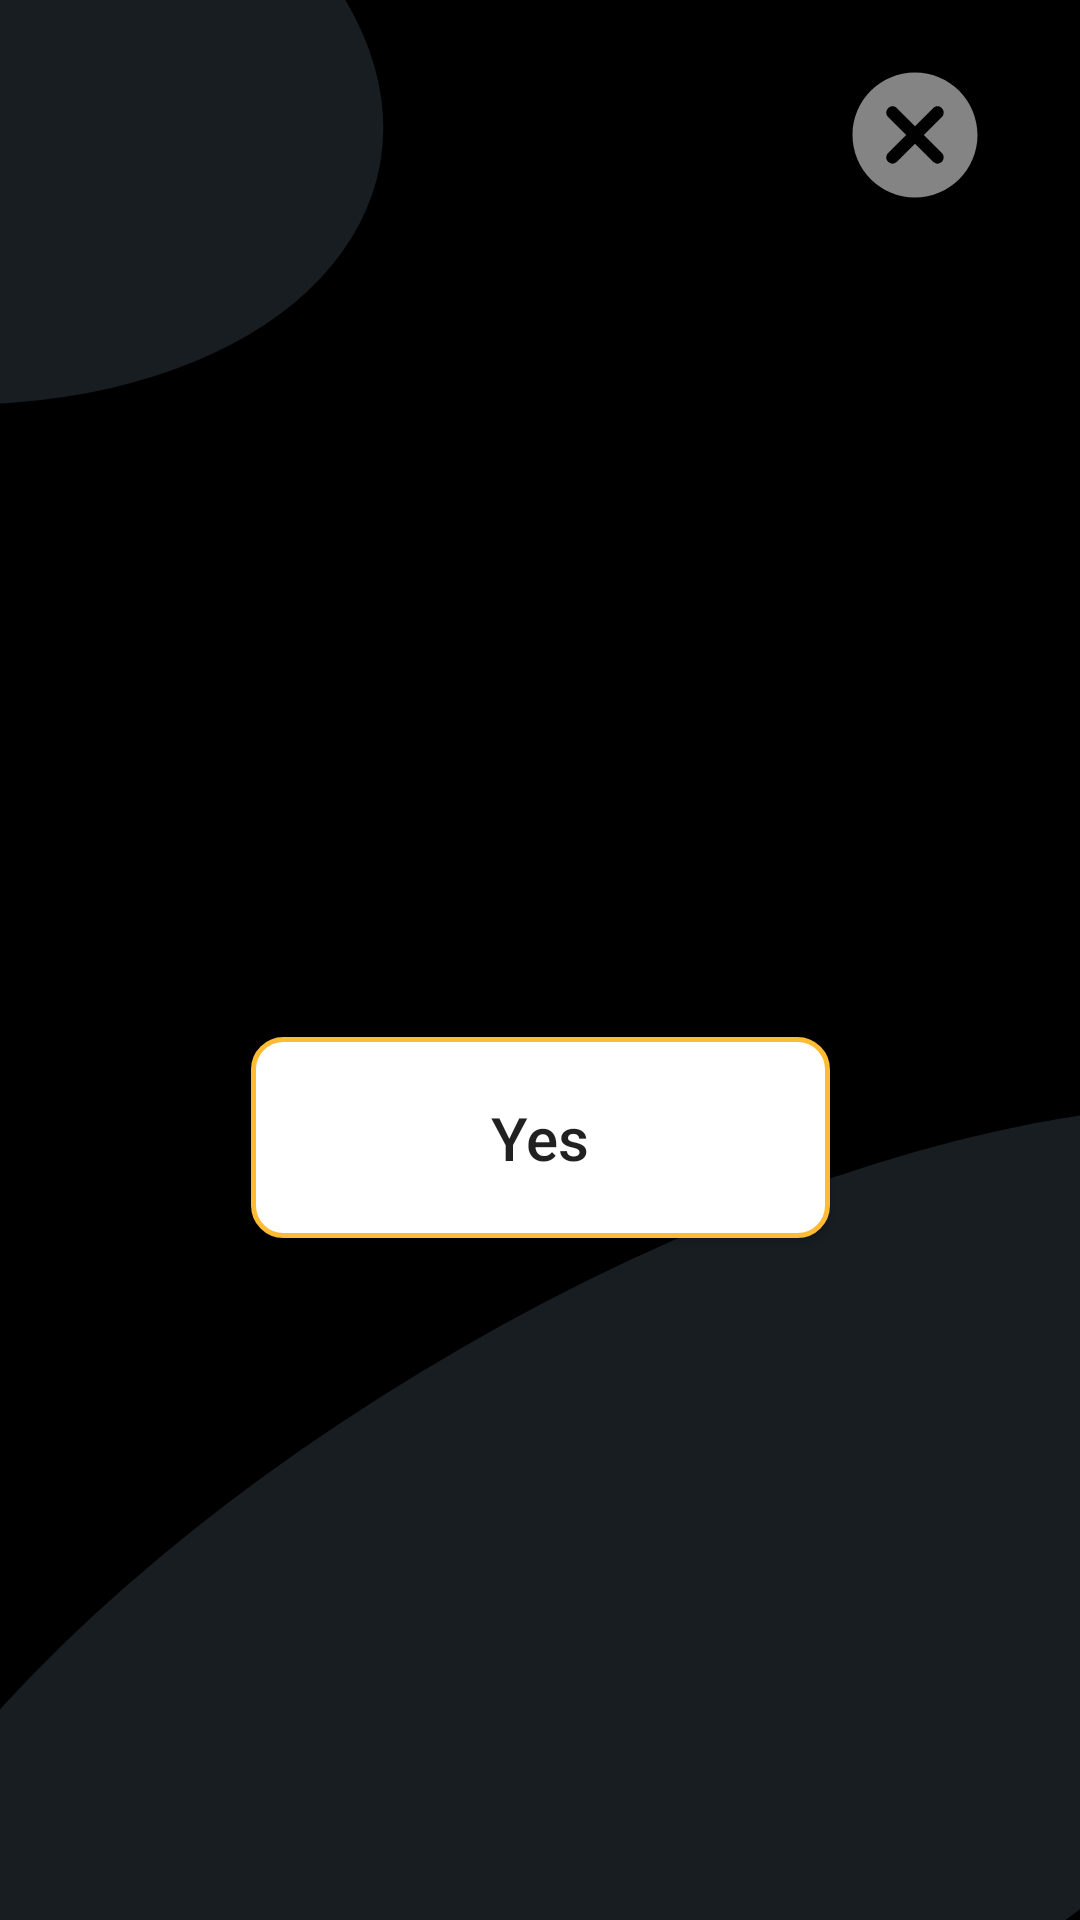

Icon click points for this 1080 × 1920 phone screenshot, format (x=x, y=y):
Cancel Button: (x=915, y=135)
